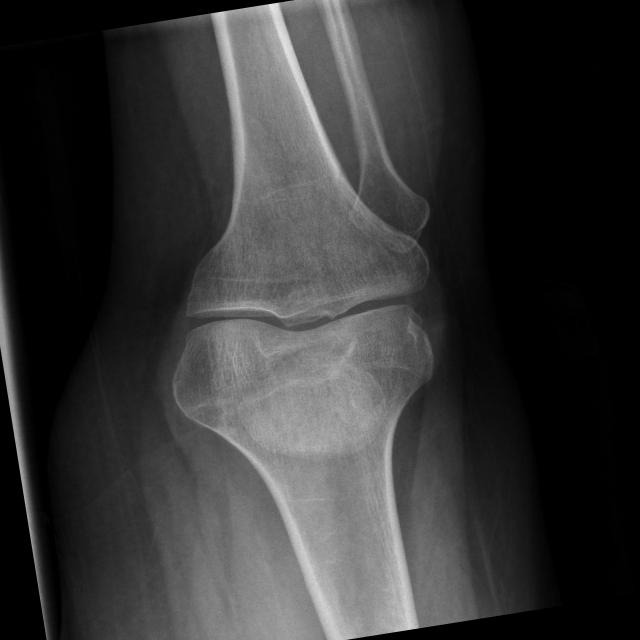Knee: (149, 220, 449, 424)
